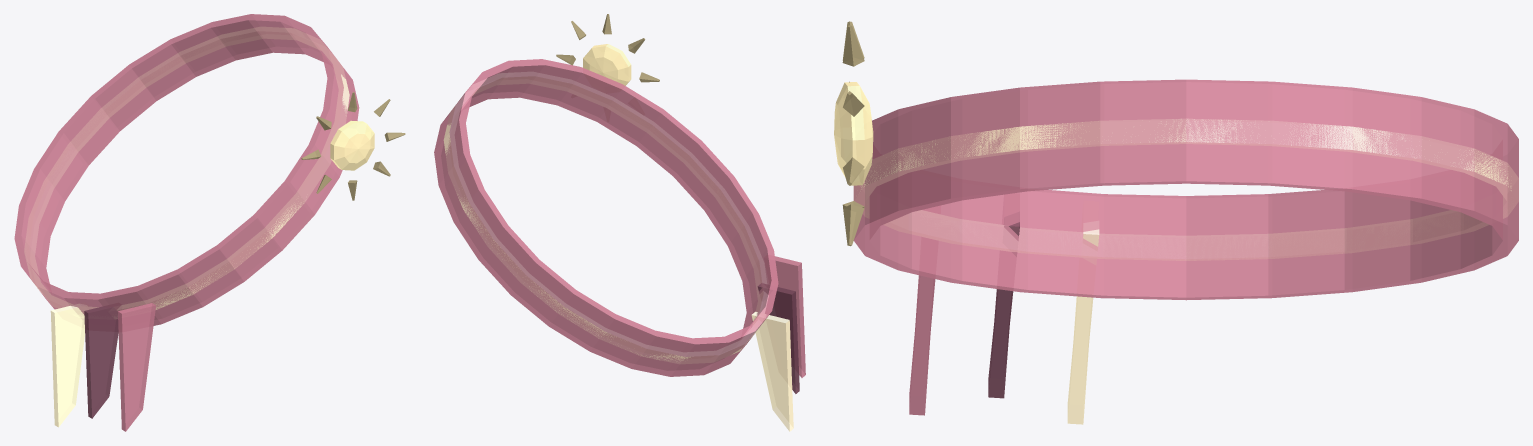
The model's file is godwar_revenant_sash.glb.
The picture shows the model from 3 angles, left to right: view 1: azimuth 30°, elevation 25°; view 2: azimuth 150°, elevation 25°; view 3: azimuth 270°, elevation 25°; orthographic projection. The views are drawn at different scales.
Parts seen in each view (by area): view 1: godwar_revenant_sash; view 2: godwar_revenant_sash; view 3: godwar_revenant_sash.
Boxes of the visible parts, x1=… form: godwar_revenant_sash: x1=14, y1=14, x2=405, y2=431; godwar_revenant_sash: x1=434, y1=14, x2=805, y2=431; godwar_revenant_sash: x1=834, y1=21, x2=1518, y2=424.
Size of the model in its own units: 0.8943 by 0.8818 by 0.8649.
